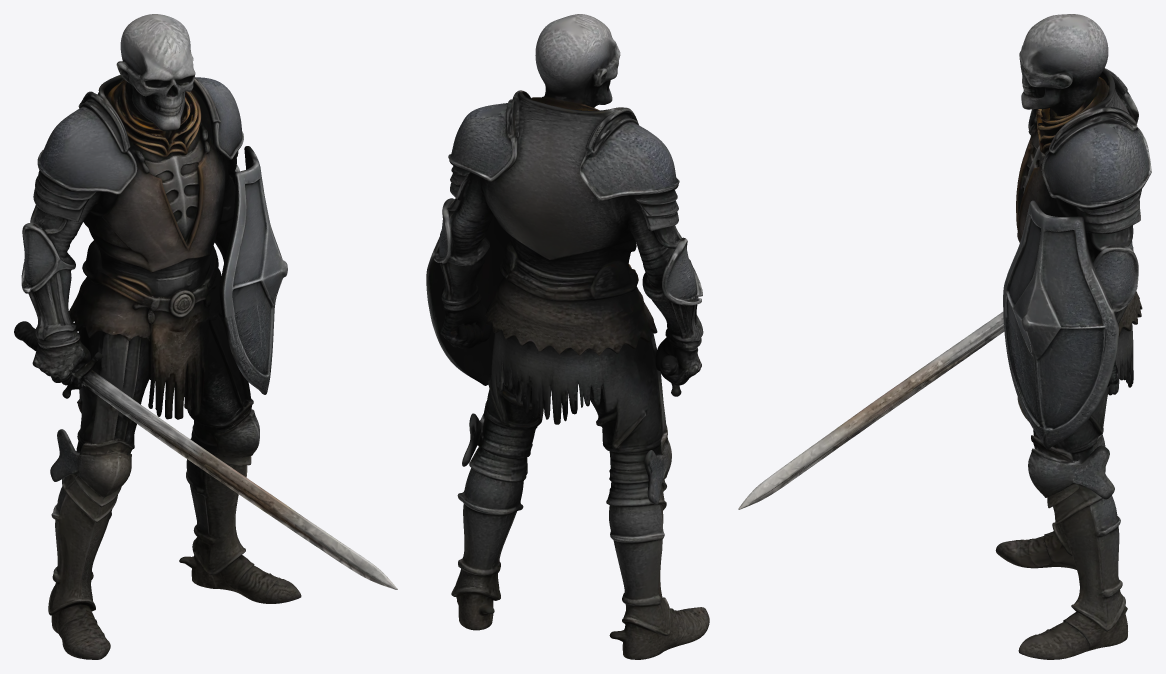
Rendered from skeleton.glb.
3 views of the same model, side by side, from view 1: azimuth 30°, elevation 25°; view 2: azimuth 150°, elevation 25°; view 3: azimuth 270°, elevation 25° (orthographic). The views are drawn at different scales.
Parts seen in each view (by area): view 1: material; view 2: material; view 3: material.
Part boxes in pixels (box(x1,y1,x2,y2)): material: box(14, 14, 397, 659); material: box(426, 14, 709, 659); material: box(738, 14, 1151, 659).
Bounding box in the file's own units: 0.4519 × 1.02 × 0.6535.
1 material, 1 textured.
